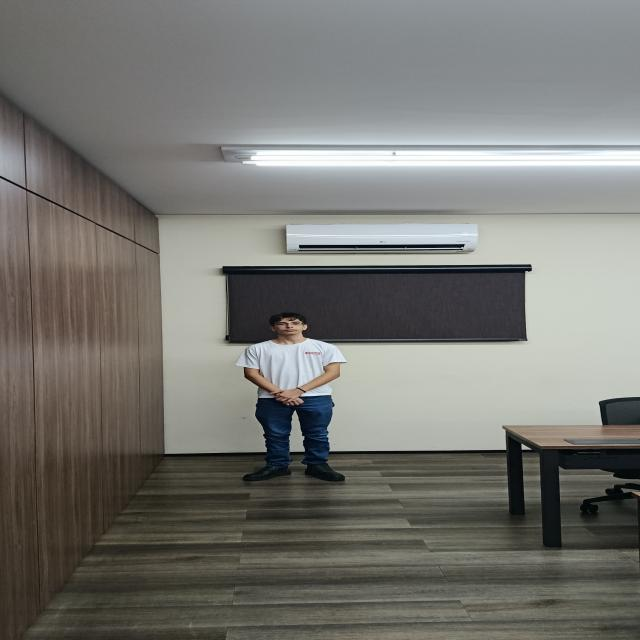sem_oculos: (275, 323, 303, 327)
